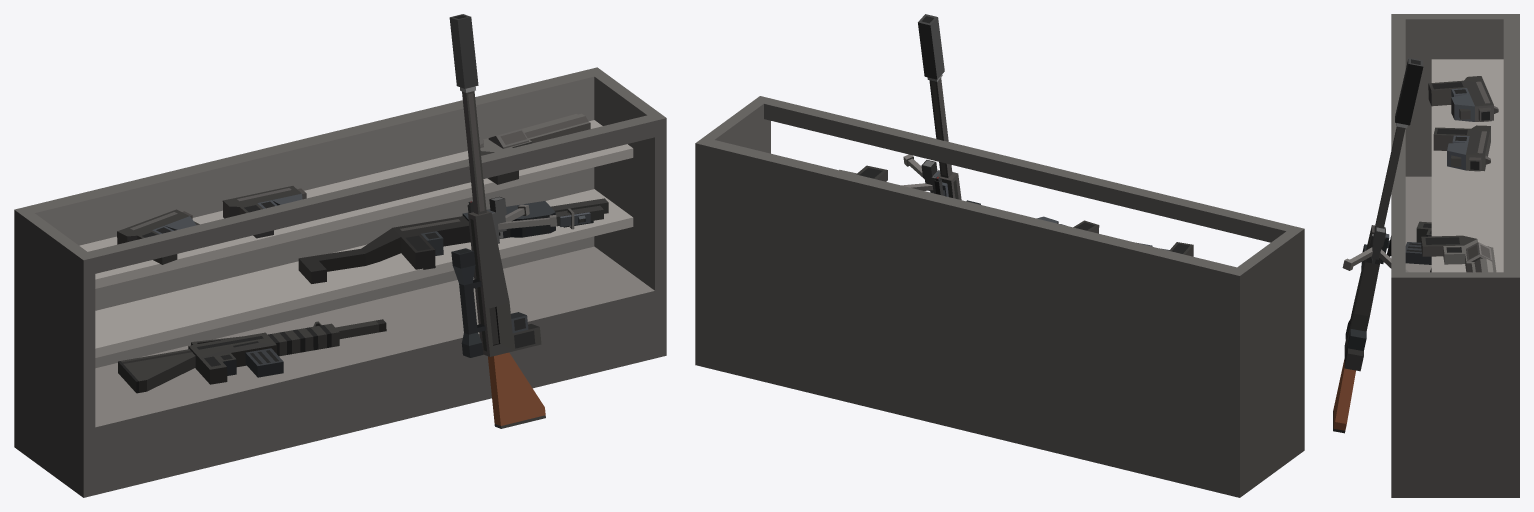
Rendered from AI_Prop_Guns_Cabinet_01.fbx.
3 renders of one model, left to right at view 1: azimuth 30°, elevation 25°; view 2: azimuth 150°, elevation 25°; view 3: azimuth 270°, elevation 25°, orthographic. The views are drawn at different scales.
Parts seen in each view (by area): view 1: AI_Prop_Guns_Cabinet_01; view 2: AI_Prop_Guns_Cabinet_01; view 3: AI_Prop_Guns_Cabinet_01.
Part boxes in pixels (<box>): AI_Prop_Guns_Cabinet_01: <box>14,14,666,497</box>; AI_Prop_Guns_Cabinet_01: <box>695,14,1304,497</box>; AI_Prop_Guns_Cabinet_01: <box>1333,14,1519,497</box>.
Bounding box in the file's own units: 4.85 × 3.03 × 1.45.
